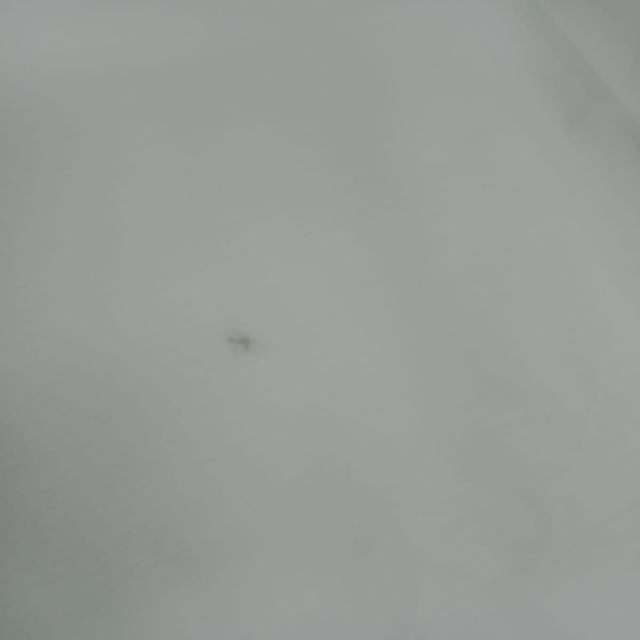stain: (209, 319, 281, 368)
